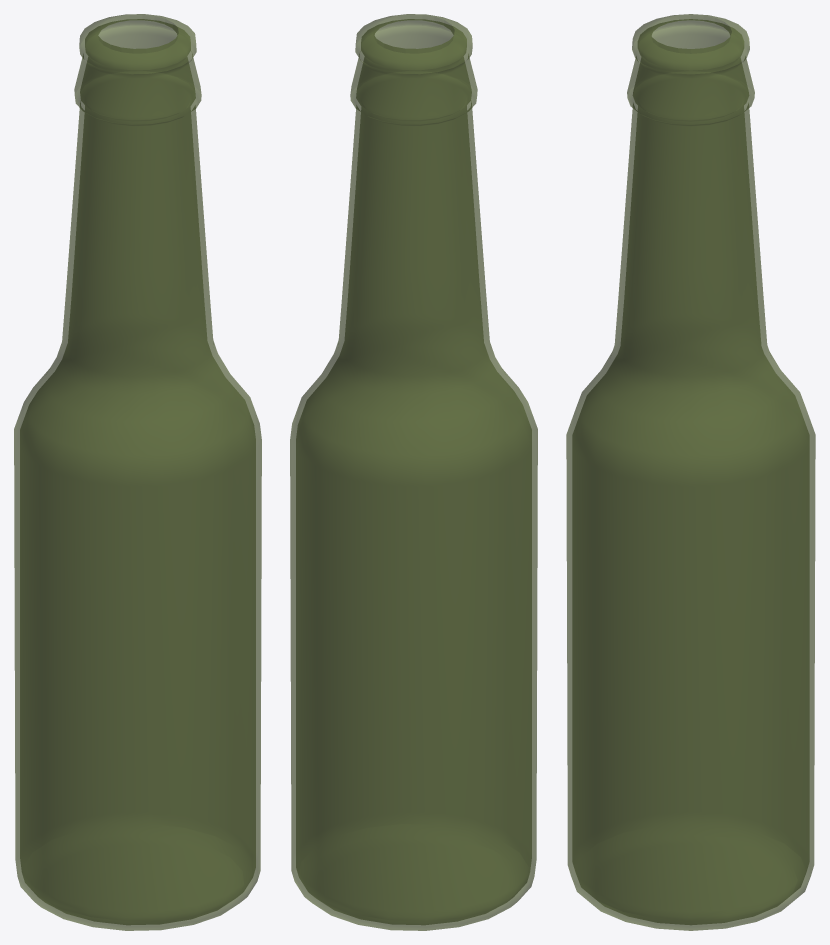
File: Bottle.fbx
The picture shows the model from 3 angles, left to right: view 1: azimuth 30°, elevation 25°; view 2: azimuth 150°, elevation 25°; view 3: azimuth 270°, elevation 25°; orthographic projection.
Parts seen in each view (by area): view 1: pCylinder1; view 2: pCylinder1; view 3: pCylinder1.
Boxes of the visible parts, x1,y1,x2,y2 form: pCylinder1: (14,14,261,930); pCylinder1: (290,14,537,930); pCylinder1: (566,14,815,930).
Bounding box in the file's own units: 2.1 × 2.1 × 7.96.
